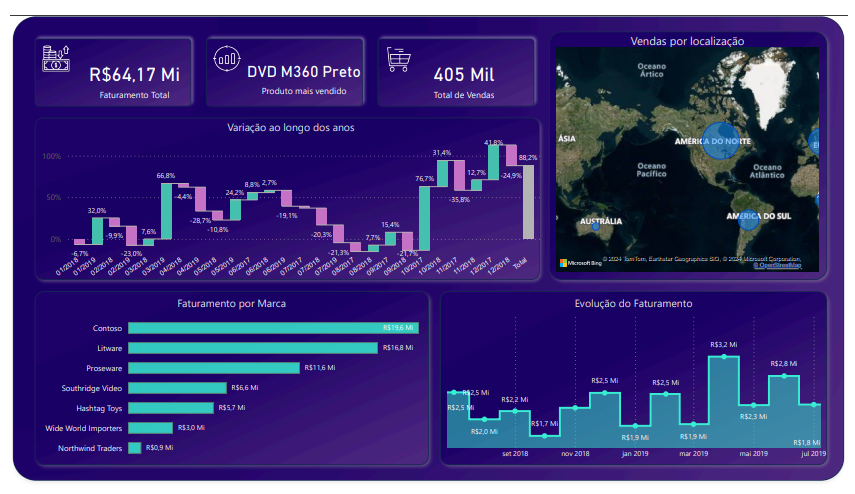

Layout of this report page (visuals, bound fields, positions):
{"tool":"powerbi","page":{"name":"Página 1","canvas":[1280,720],"ordinal":0},"visuals":[{"type":"card","title":"Faturamento Total","fields":{"Values":["Sum(Vendas.Faturamento)"]},"box":[96.2,56.2,190,81.2],"z":0},{"type":"card","title":"Produto mais vendido","fields":{"Values":["Min(Vendas.Produto)"]},"box":[331.2,46.2,237.5,95],"z":1000},{"type":"barChart","title":"Faturamento por Marca","fields":{"Y":["Sum(Vendas.Faturamento)"],"Category":["Vendas.Marca"]},"box":[38.8,427.5,601.2,260],"z":2000},{"type":"areaChart","title":"Evolução do Faturamento ","fields":{"Category":["Vendas.Data da Venda.Variation.Hierarquia de datas.Ano","Vendas.Data da Venda.Variation.Hierarquia de datas.Mês"],"Y":["Sum(Vendas.Faturamento)"]},"box":[653.8,427.5,598.8,260],"z":3000},{"type":"map","title":"Vendas por localização","fields":{"Category":["Vendas.Continente"],"Size":["Sum(Vendas.Qtd. Vendida)"]},"box":[831.2,26.2,410,371.2],"z":4000},{"type":"card","title":"Total de Vendas","fields":{"Values":["Sum(Vendas.Qtd. Vendida)"]},"box":[540,52.5,308.8,88.8],"z":5000},{"type":"waterfallChart","title":"Variação ao longo dos anos","fields":{"Category":["Variação.Mêses.Variation.Hierarquia de datas.Mês","Variação.Mêses"],"Y":["Sum(Variação.Variação)"]},"box":[43.8,158.8,772.5,250],"z":6000},{"type":"image","box":[568.8,40,52.5,52.5],"z":7000},{"type":"image","box":[43.8,40,52.5,51.2],"z":8000},{"type":"image","box":[305,40,52.5,51.2],"z":9000}]}

Visuals, with their boxes in screenshot pixels (x1, y1, x2, y2), scaled from the page's 1280x720 canvas onto the 855x494 screenshot:
"Faturamento Total" card: 64, 39, 191, 94
"Produto mais vendido" card: 221, 32, 380, 97
"Faturamento por Marca" barChart: 26, 293, 428, 472
"Evolução do Faturamento " areaChart: 437, 293, 837, 472
"Vendas por localização" map: 555, 18, 829, 273
"Total de Vendas" card: 361, 36, 567, 97
"Variação ao longo dos anos" waterfallChart: 29, 109, 545, 280
image: 380, 27, 415, 63
image: 29, 27, 64, 63
image: 204, 27, 239, 63
